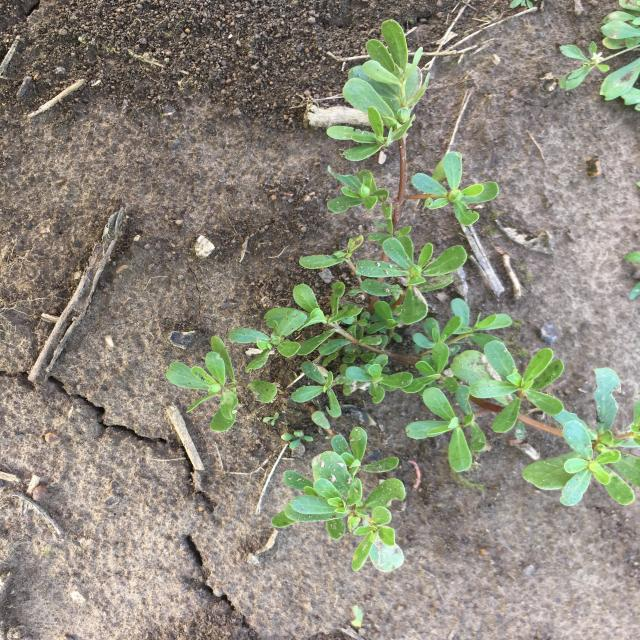Carpetweed: (558, 0, 640, 110)
Purslane: (229, 19, 640, 507), (272, 410, 406, 573), (165, 336, 278, 432)
